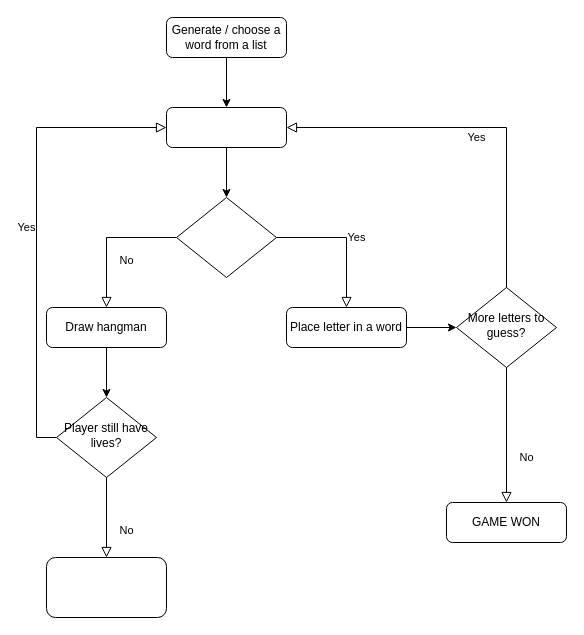
Image size: 584x635. Some labels were removed from this diagram. The shapes that lost their labels are listed below. From the top down, each one's box as (x1, y1, x2, y2) in pixels, then its label:
(166, 106, 286, 148): Ask user for a letter
(176, 196, 276, 278): Letter in a word?
(46, 556, 166, 618): GAME LOST
